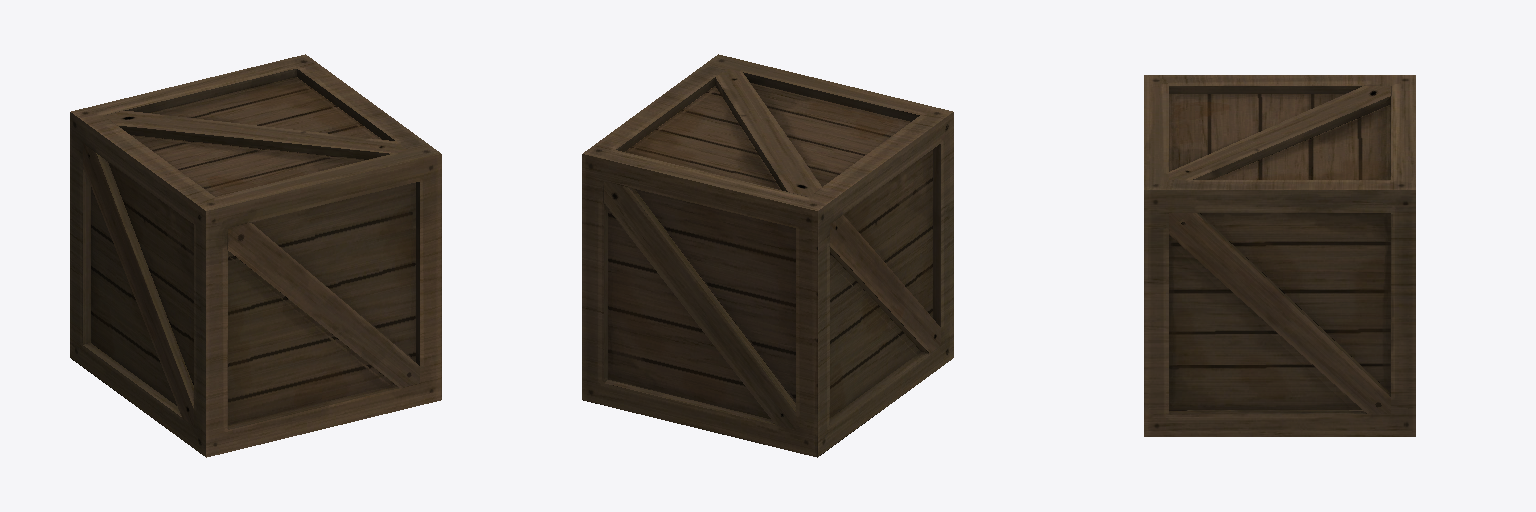
3 renders of one model, left to right at view 1: azimuth 30°, elevation 25°; view 2: azimuth 150°, elevation 25°; view 3: azimuth 270°, elevation 25°, orthographic.
Parts seen in each view (by area): view 1: Crate01_Cube; view 2: Crate01_Cube; view 3: Crate01_Cube.
Boxes of the visible parts, x1,y1,x2,y2 form: Crate01_Cube: [70, 54, 441, 457]; Crate01_Cube: [582, 54, 953, 457]; Crate01_Cube: [1144, 75, 1415, 436].
Size of the model in its own units: 0.8817 by 0.8819 by 0.8821.
Materials: 1 (1 with a texture image).